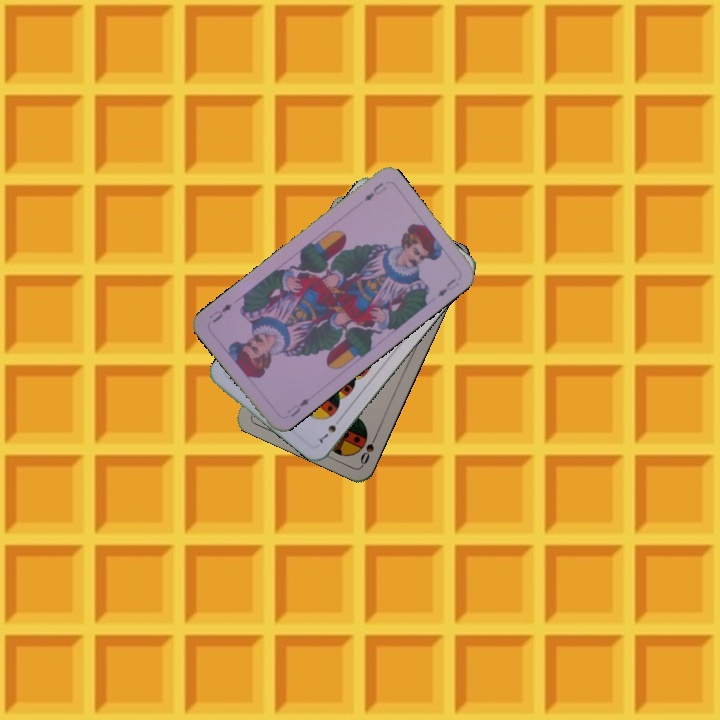EU: (283, 394, 312, 420), (360, 178, 389, 204)
S7: (315, 413, 344, 445)
SO: (356, 429, 380, 467)
